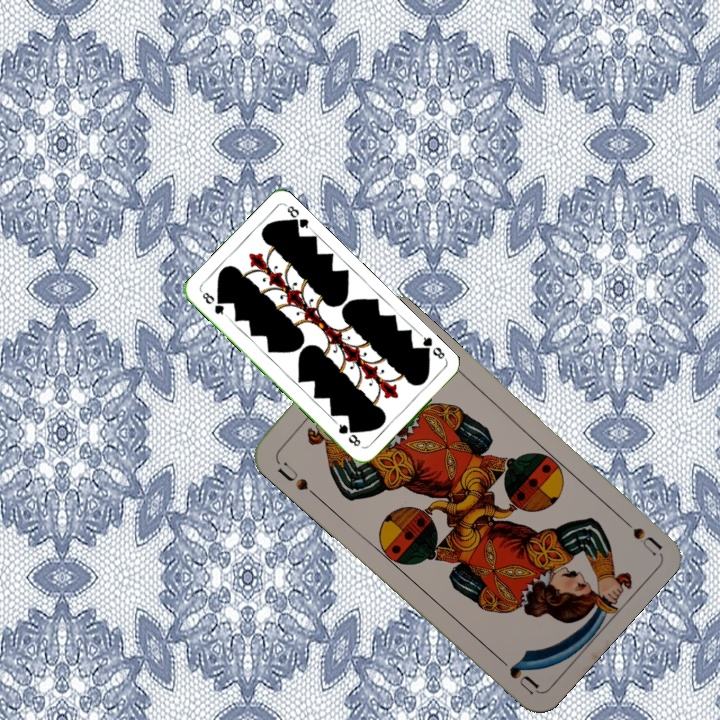G8: (416, 331, 450, 364), (198, 288, 230, 319)
SU: (613, 510, 663, 558), (274, 457, 320, 500)
